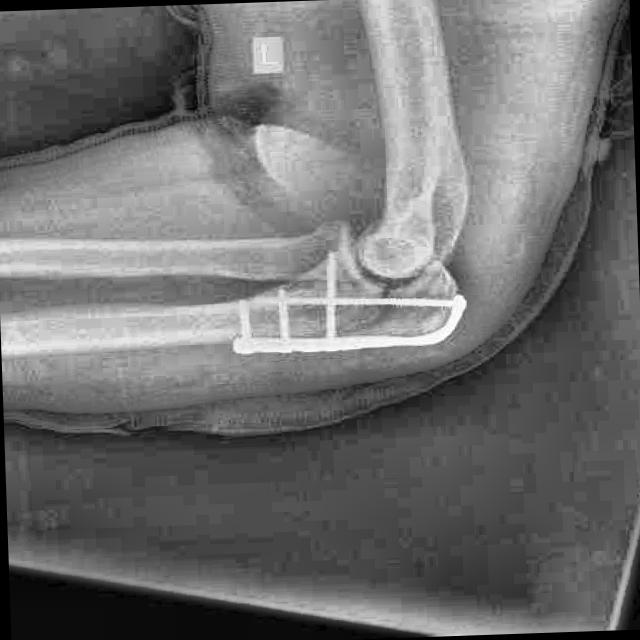elbow positive: (326, 298, 422, 339)
